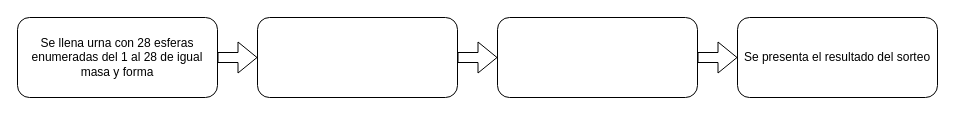
This 955x115 diagram has some shape labels left out. The centre of each missing label's shape, as x and y in pixels:
"Se ordenan de menor a mayor las 5 esferas seleccionadas" belongs at pixel 597 57.
"Se seleccionan 5 esferas aleatoriamente" belongs at pixel 357 57.
